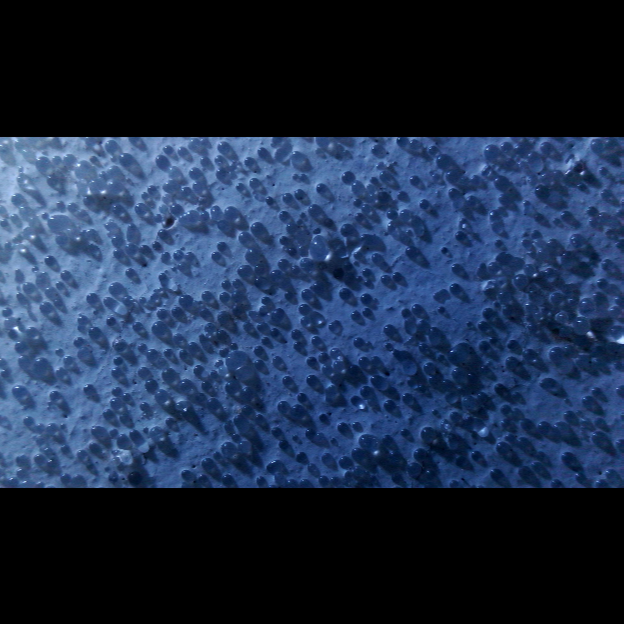GrassBeadSeg: (60, 138, 531, 474), (46, 213, 615, 476), (8, 212, 561, 452), (4, 211, 621, 424), (35, 161, 533, 420), (124, 154, 543, 461), (59, 184, 541, 450), (109, 189, 606, 442), (64, 159, 511, 420), (22, 202, 537, 424), (110, 223, 597, 450), (31, 197, 405, 483), (213, 167, 602, 426), (23, 219, 402, 481), (45, 173, 392, 459), (6, 187, 364, 463), (144, 146, 552, 388), (204, 165, 599, 409), (103, 138, 520, 367), (115, 145, 435, 438), (223, 204, 588, 455), (102, 200, 499, 417), (139, 209, 443, 479), (42, 175, 552, 335), (14, 290, 528, 446), (210, 207, 504, 474), (62, 152, 308, 468), (13, 163, 489, 322), (188, 135, 511, 359), (4, 174, 481, 324), (161, 192, 404, 478), (107, 340, 589, 481), (21, 139, 468, 288), (88, 229, 376, 448), (72, 197, 497, 345), (82, 290, 420, 473), (10, 208, 585, 314), (322, 144, 511, 460), (67, 149, 304, 401), (2, 306, 597, 405), (31, 250, 510, 372), (147, 160, 558, 301), (104, 209, 596, 325), (39, 209, 612, 308), (108, 163, 315, 437), (220, 165, 608, 311), (2, 217, 431, 348), (220, 218, 430, 483), (148, 288, 511, 437), (157, 140, 554, 276), (15, 262, 268, 473), (11, 253, 395, 391), (241, 135, 560, 298), (308, 263, 608, 436), (137, 201, 436, 371), (10, 284, 462, 396), (293, 197, 557, 388), (356, 166, 607, 366), (140, 174, 460, 330), (268, 181, 623, 321), (173, 178, 529, 314), (109, 140, 514, 257), (199, 155, 612, 268), (4, 165, 299, 323), (49, 194, 275, 399), (74, 155, 318, 341), (336, 174, 511, 431), (284, 151, 437, 443), (36, 297, 595, 376), (297, 301, 575, 458), (3, 171, 553, 248), (24, 324, 332, 461), (59, 268, 284, 452), (62, 151, 384, 279), (200, 289, 422, 474), (153, 309, 603, 400), (59, 153, 216, 401), (399, 147, 591, 349), (290, 172, 593, 298), (280, 191, 436, 432), (102, 184, 266, 413), (10, 193, 156, 442), (132, 137, 604, 214), (122, 208, 496, 304), (54, 279, 283, 435), (38, 237, 504, 313), (85, 221, 397, 332), (162, 179, 448, 300), (370, 170, 537, 364), (21, 225, 182, 425), (171, 181, 365, 342), (107, 280, 373, 396), (160, 281, 462, 382), (276, 399, 609, 487), (405, 245, 588, 404), (427, 300, 623, 445), (138, 183, 549, 252), (277, 174, 397, 409), (247, 181, 538, 271), (298, 244, 492, 378), (255, 310, 571, 392), (62, 249, 282, 365), (112, 211, 498, 272), (190, 184, 318, 364), (253, 139, 406, 289), (159, 202, 251, 451), (50, 135, 330, 216), (113, 338, 362, 429), (82, 193, 260, 317), (376, 189, 476, 407), (320, 221, 462, 372), (304, 287, 450, 431), (241, 320, 537, 391), (247, 176, 371, 342), (352, 249, 536, 359), (51, 223, 573, 259), (131, 320, 567, 361), (277, 192, 511, 268), (118, 346, 415, 402), (489, 316, 591, 478), (294, 290, 605, 343), (209, 156, 284, 364), (170, 188, 599, 224), (476, 167, 623, 272), (239, 187, 318, 379), (226, 290, 360, 403), (190, 135, 299, 273), (410, 150, 500, 313), (15, 179, 130, 304), (149, 393, 476, 436), (199, 305, 282, 471), (215, 216, 305, 366), (526, 321, 608, 484), (482, 142, 565, 302), (21, 262, 463, 292), (407, 343, 599, 412), (187, 220, 312, 324), (164, 280, 254, 424), (448, 396, 588, 486), (17, 232, 68, 476), (59, 268, 159, 389), (223, 357, 564, 392), (412, 152, 451, 458), (219, 239, 322, 354), (228, 335, 499, 378), (86, 324, 294, 380), (296, 264, 428, 352), (0, 346, 129, 436), (191, 180, 315, 267), (64, 411, 206, 480), (199, 202, 273, 334), (54, 344, 265, 389), (559, 276, 609, 462), (299, 212, 397, 298), (389, 417, 509, 487), (237, 169, 354, 240), (249, 220, 354, 298), (114, 285, 213, 363), (446, 347, 525, 443), (223, 417, 336, 482), (264, 262, 461, 299), (102, 300, 141, 482), (477, 303, 591, 365), (116, 347, 257, 397), (270, 140, 376, 205), (236, 263, 293, 383), (90, 380, 210, 435), (102, 306, 304, 338), (260, 203, 323, 303), (527, 251, 621, 317), (109, 385, 306, 416), (351, 427, 461, 479), (180, 210, 225, 336), (8, 421, 96, 484), (0, 138, 130, 179), (459, 142, 528, 219), (75, 183, 161, 244), (252, 234, 291, 368), (211, 158, 305, 212), (455, 415, 550, 468), (12, 163, 76, 241), (35, 150, 305, 168), (296, 217, 369, 283), (42, 208, 114, 274), (406, 180, 496, 232), (574, 352, 623, 445), (319, 273, 388, 339), (57, 154, 115, 232), (177, 340, 264, 390), (243, 245, 448, 265), (220, 289, 245, 453), (181, 414, 243, 473), (311, 321, 413, 356), (391, 265, 611, 281), (258, 454, 368, 485), (147, 143, 200, 207), (104, 221, 168, 273), (102, 295, 231, 318), (414, 353, 491, 391), (23, 399, 56, 485), (75, 154, 120, 215), (450, 347, 532, 379), (118, 144, 231, 165), (365, 145, 391, 236), (196, 158, 240, 209), (318, 346, 360, 399), (113, 342, 155, 378), (343, 232, 370, 280), (152, 347, 221, 365), (138, 268, 167, 304), (608, 295, 623, 364), (193, 358, 225, 389), (497, 449, 544, 468), (528, 149, 559, 177), (161, 245, 193, 272), (445, 166, 490, 181), (368, 373, 386, 393), (489, 209, 496, 218)
